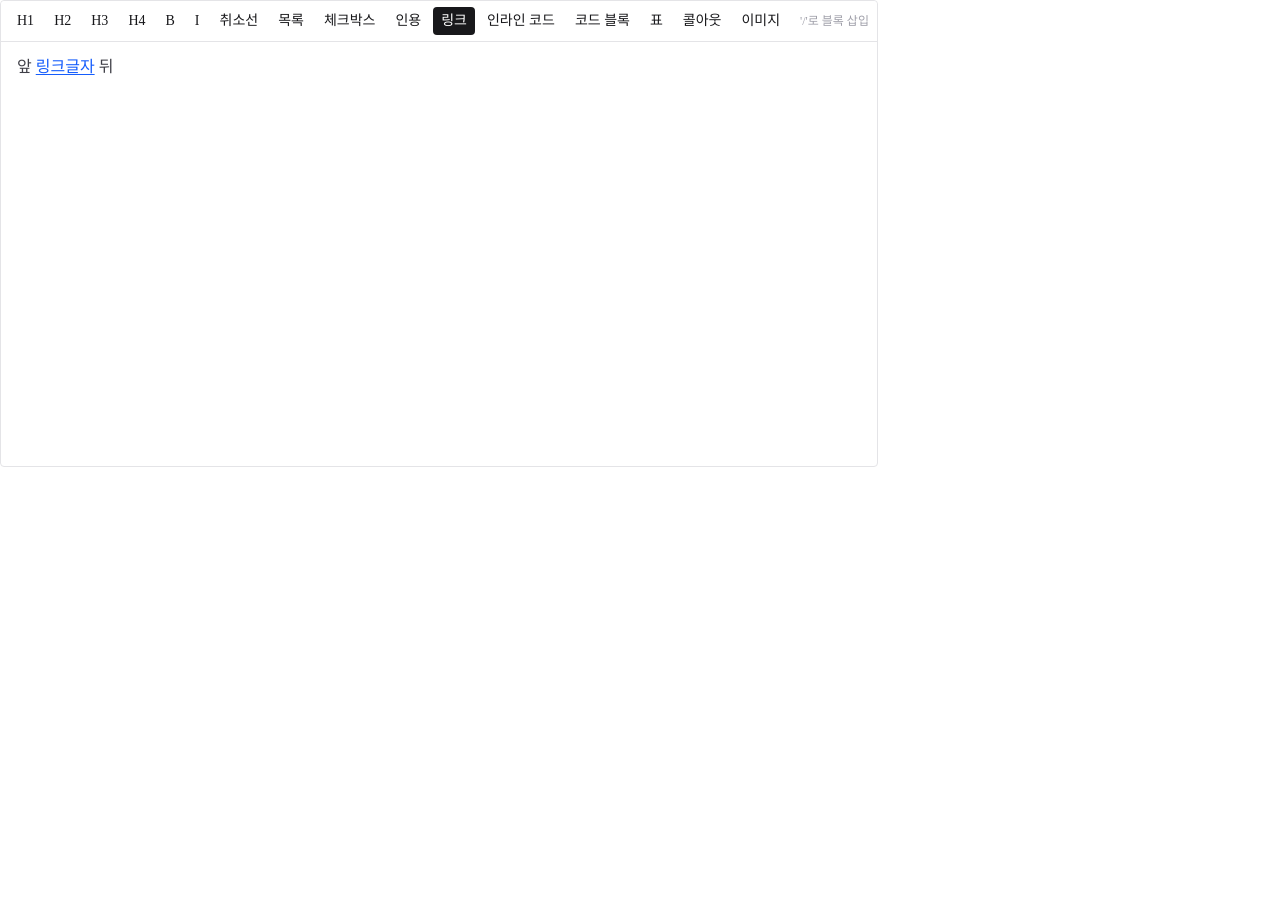
Test: 링크 주소 팝업: 열기 › 툴바 링크 버튼: 링크 옆 글자까지 함께 선택했어도 '고치기' 팝업(링크 해제 버튼 있음)이 뜬다
Expected: the field labelled "앞 링크글자 뒤" is shown, [17,58,113,75]
Click the button "링크".
click(454, 21)  # box [433,7,475,35]
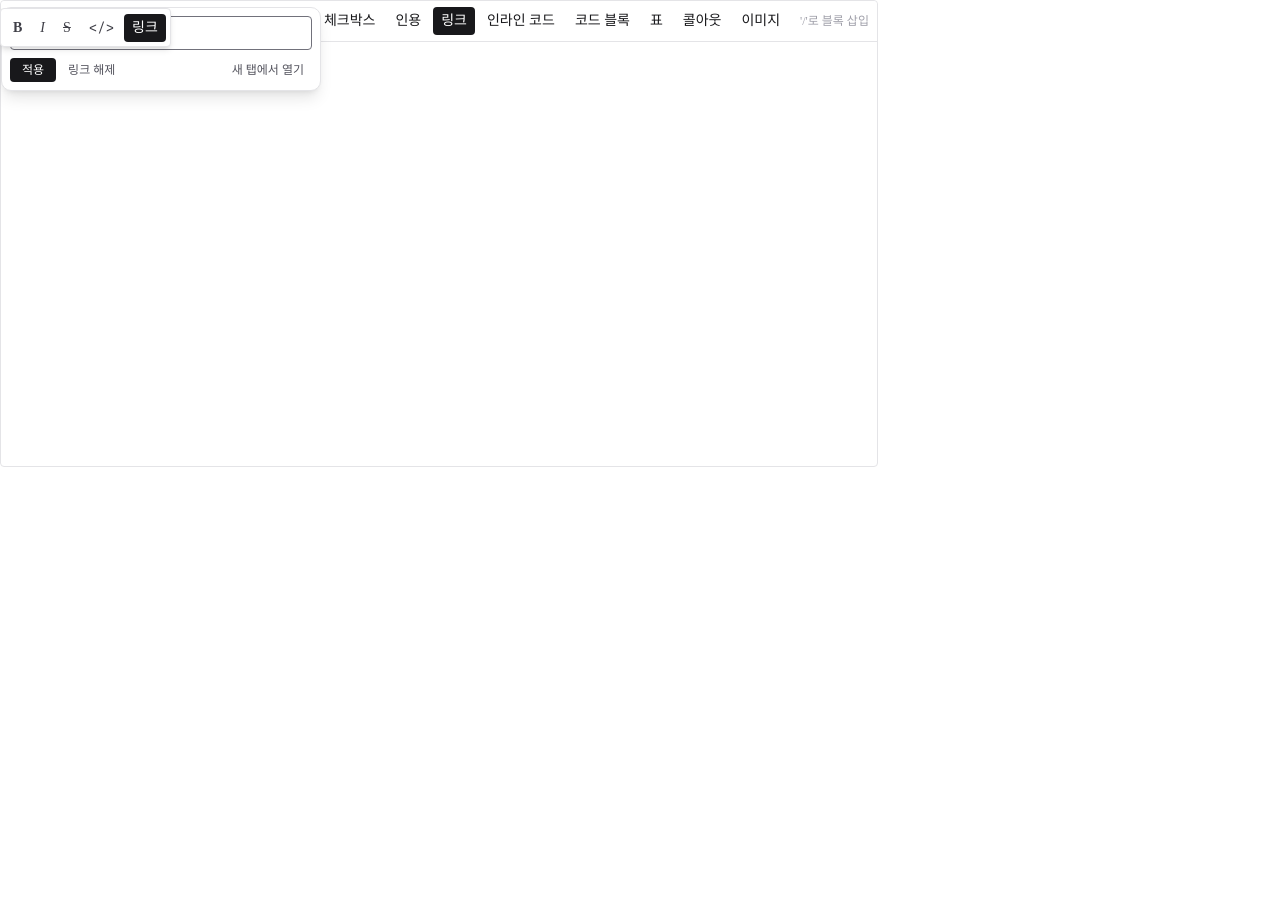
Result: the dialog named "링크 편집" is shown at [1,7,321,91]
Result: the button "링크 해제" is shown at [60,58,123,82]
